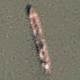ship: (0, 0, 23, 38)
